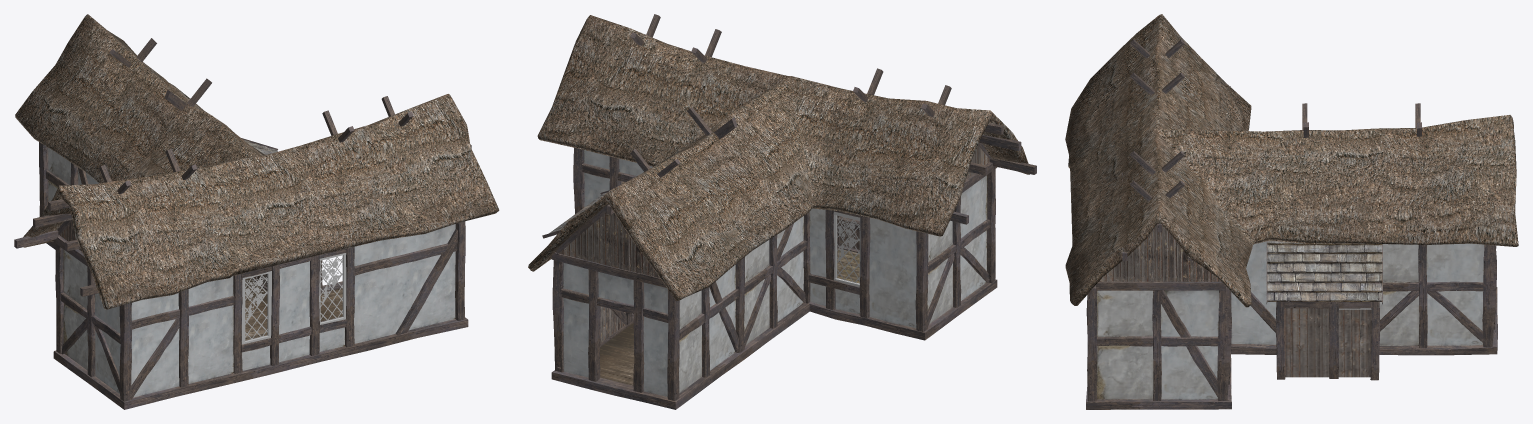
The model's file is p3d_medieval_enterable_bld-13.dae.
The picture shows the model from 3 angles, left to right: view 1: azimuth 30°, elevation 25°; view 2: azimuth 150°, elevation 25°; view 3: azimuth 270°, elevation 25°; orthographic projection. The views are drawn at different scales.
Parts seen in each view (by area): view 1: p3d_medieval_enterable_bld_13; view 2: p3d_medieval_enterable_bld_13; view 3: p3d_medieval_enterable_bld_13.
Part boxes in pixels (x1=…): p3d_medieval_enterable_bld_13: x1=14, y1=14, x2=499, y2=409; p3d_medieval_enterable_bld_13: x1=528, y1=14, x2=1036, y2=409; p3d_medieval_enterable_bld_13: x1=1065, y1=14, x2=1518, y2=409.
Size of the model in its own units: 1156 by 562 by 1087.
